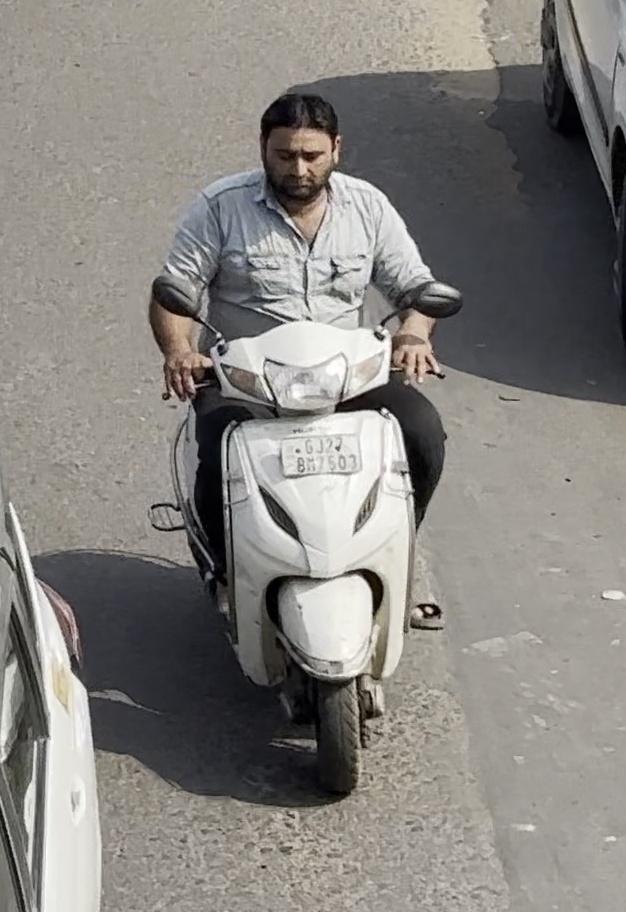BikeWithRider: (135, 80, 472, 804)
NoHelmet: (248, 84, 351, 204)
